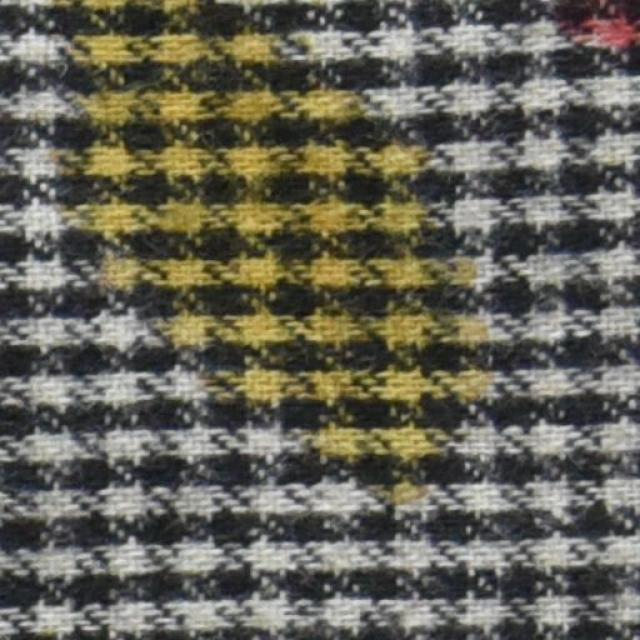Stain: (55, 0, 493, 500), (559, 0, 639, 69)
